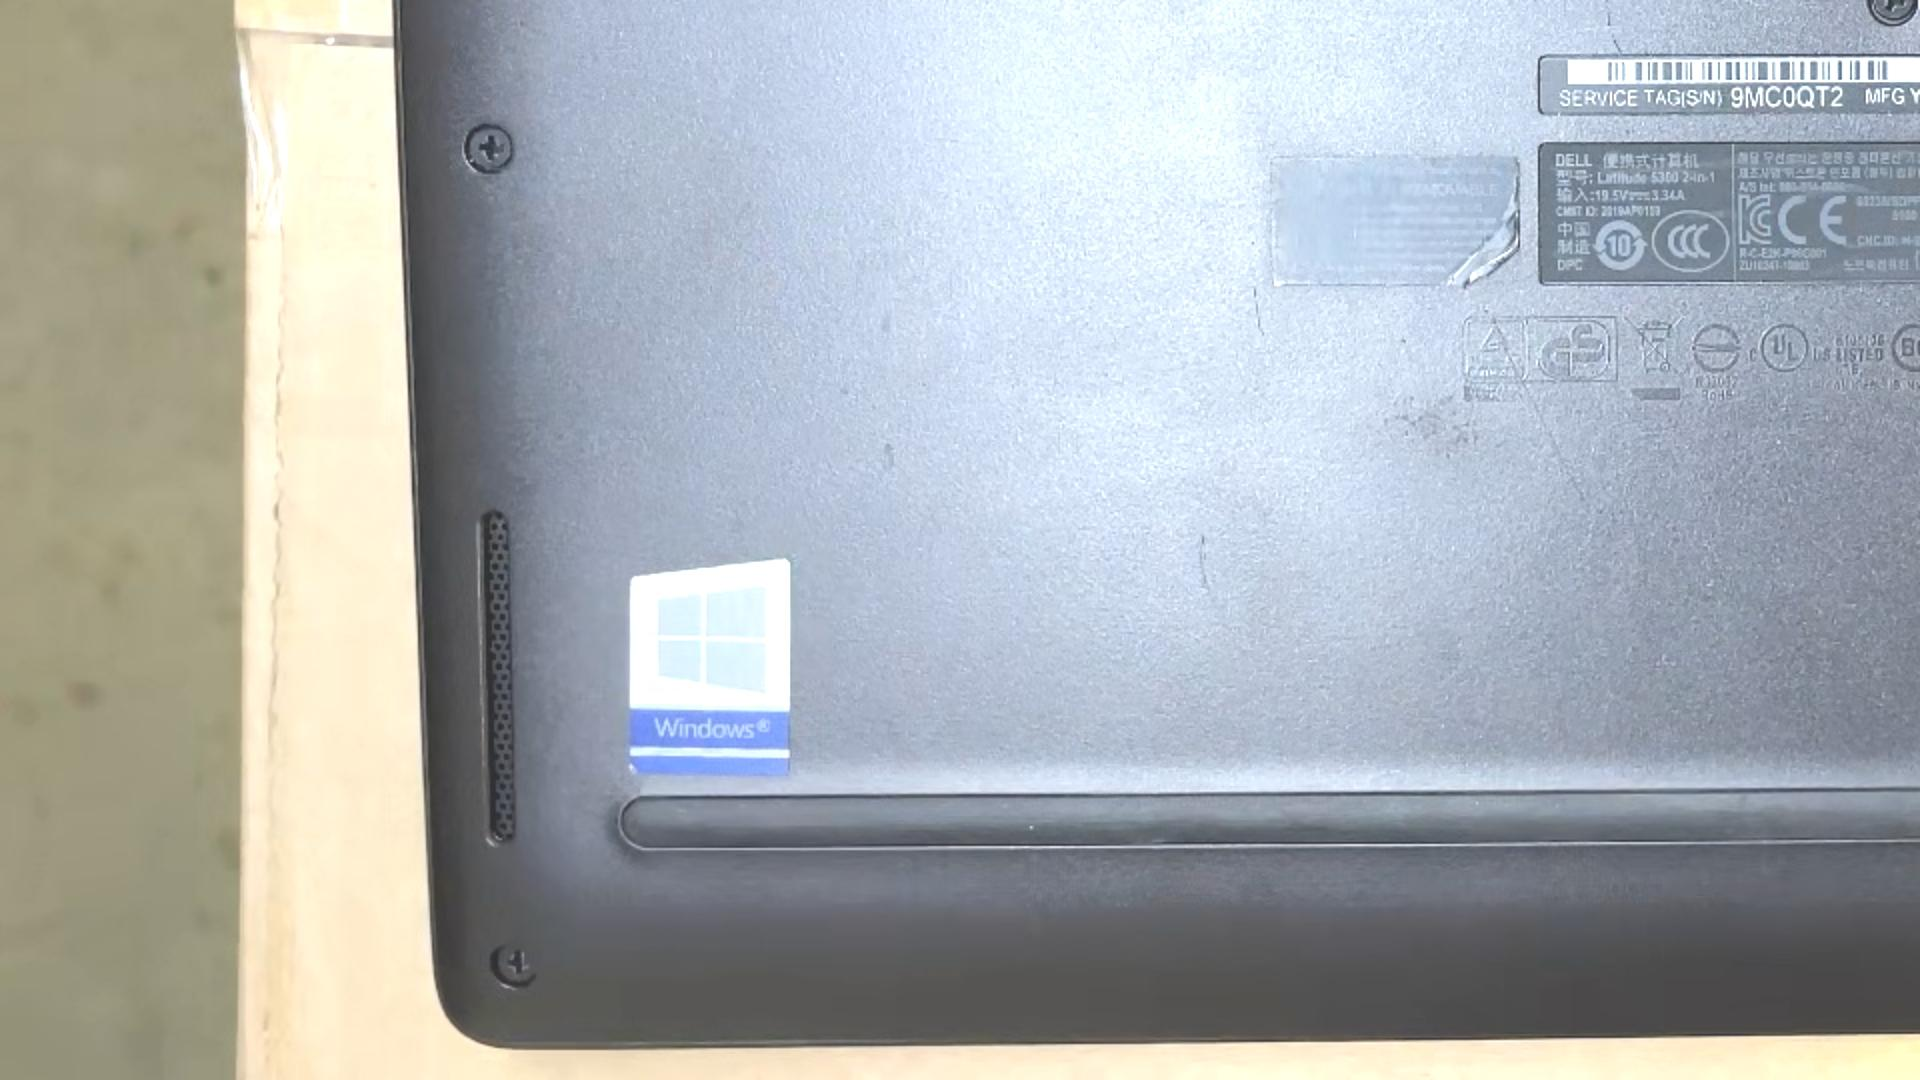scratches: (1489, 318, 1588, 501), (1197, 535, 1215, 596), (1253, 286, 1267, 339)
